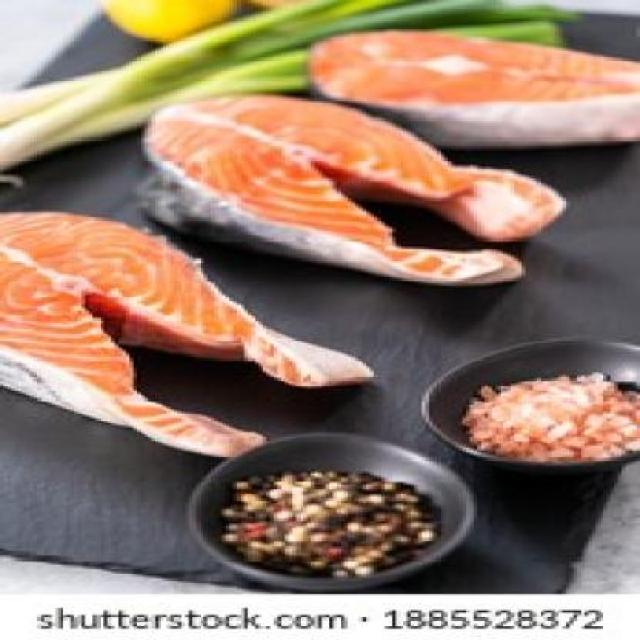salmon: (3, 203, 392, 466), (115, 90, 563, 288), (296, 26, 640, 159)
